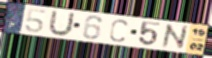5: (138, 20, 163, 47), (24, 7, 47, 33)
6: (81, 15, 104, 41)
C: (108, 18, 130, 43)
N: (161, 23, 189, 50)
U: (46, 9, 77, 38)
